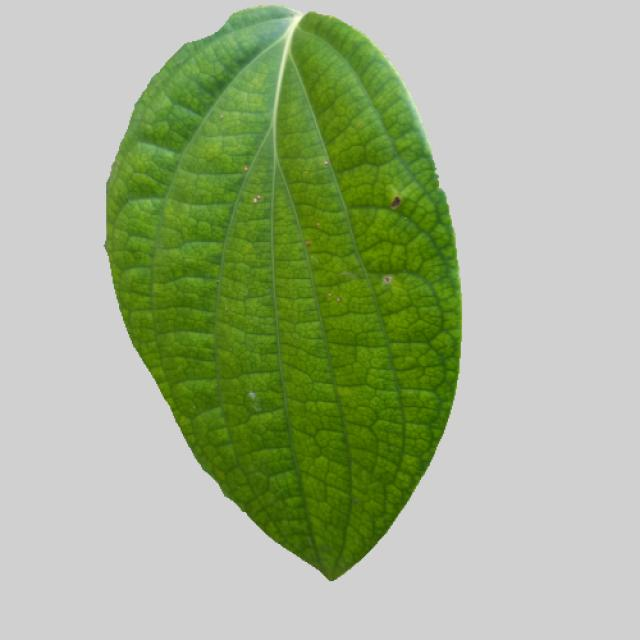healthy: (102, 6, 466, 587)
